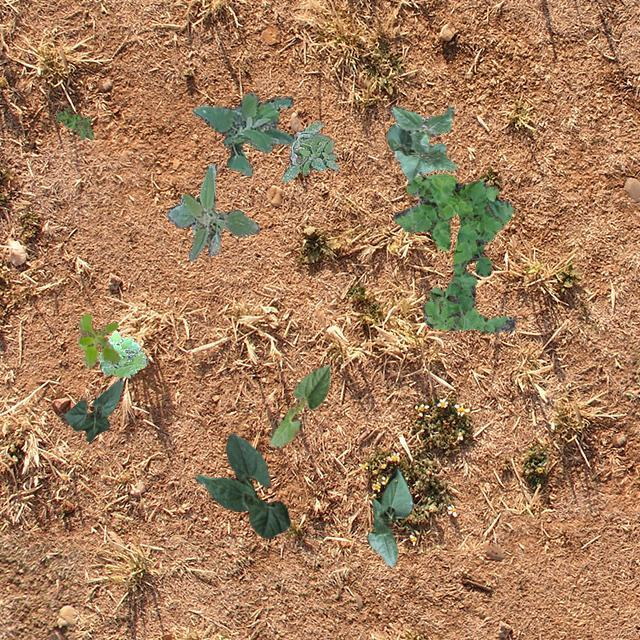crop: (194, 432, 288, 538), (268, 364, 330, 448), (390, 104, 452, 180), (367, 468, 412, 566), (64, 378, 122, 441), (386, 122, 456, 170)
weed: (392, 172, 514, 332), (165, 162, 258, 260), (192, 92, 294, 175), (280, 120, 338, 182), (98, 330, 148, 378), (76, 312, 118, 368), (54, 105, 92, 138)
